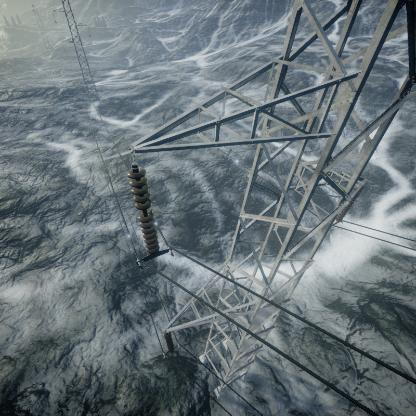insulator: (126, 164, 161, 254)
